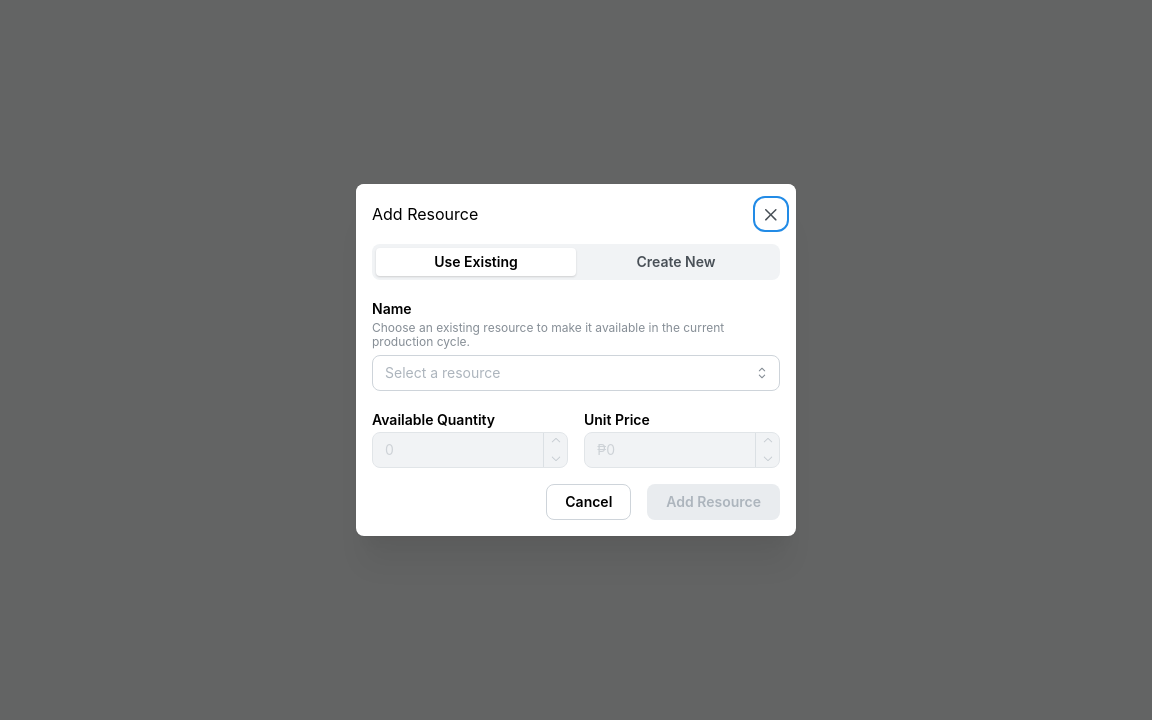
Test: AddResourceModal › filters existing options as the user types, without offering a create action
Type "glue" into the dropdown labelled "Name". click: (576, 373)
box: [372,355,780,391]
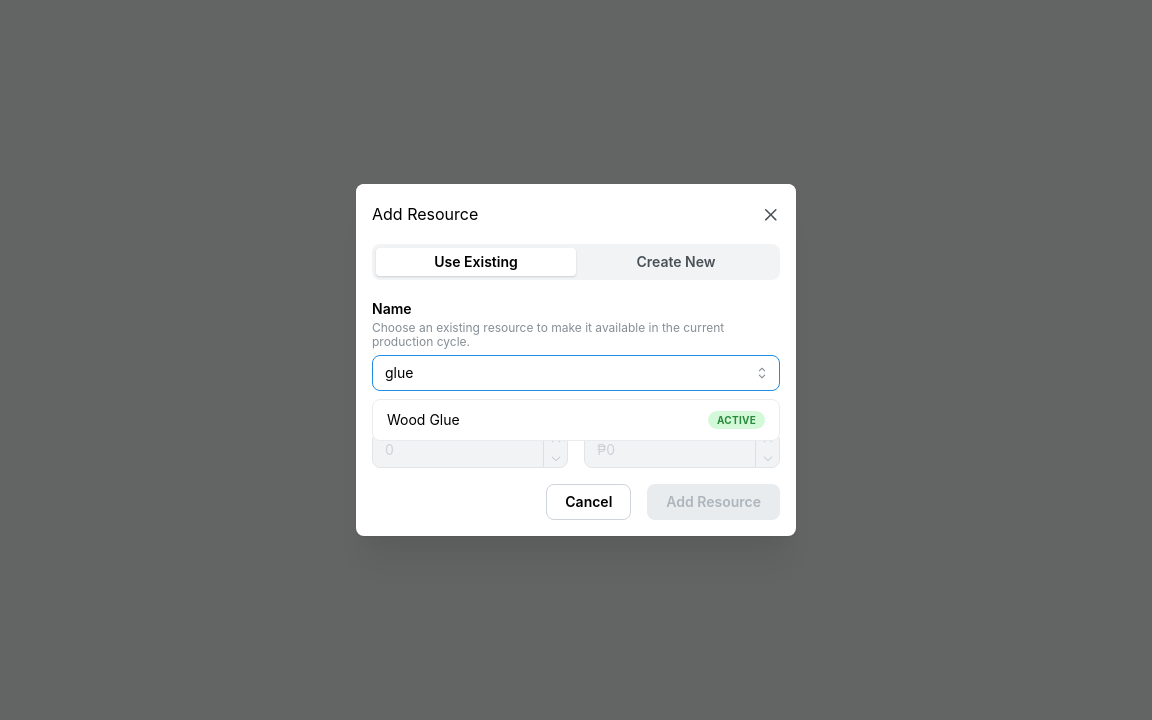
Check: the text "Wood Glue" is shown, box [387,410,460,430]
Check: the text "Active" is shown, box [717,412,756,428]
Check: the option "Epoxy" is gone
